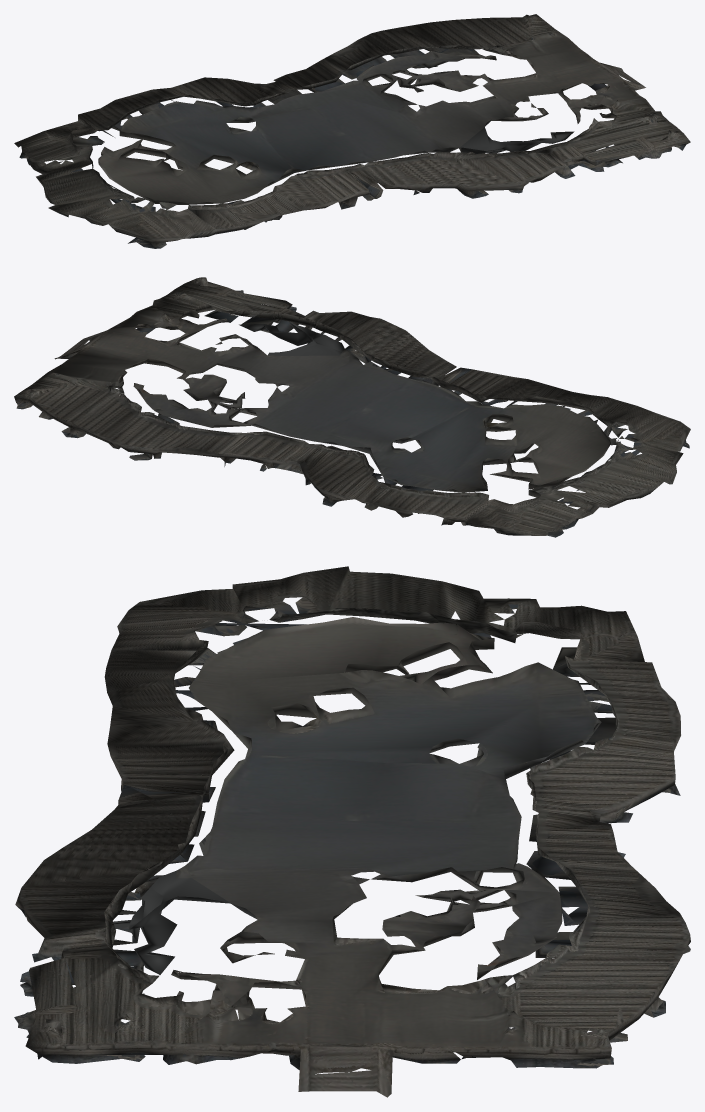
The model's file is horaro_market_deck_lod0.glb.
3 renders of one model, top to bottom at view 1: azimuth 30°, elevation 25°; view 2: azimuth 150°, elevation 25°; view 3: azimuth 270°, elevation 25°, orthographic. The views are drawn at different scales.
Parts seen in each view (by area): view 1: horaro_market_deck_lod0; view 2: horaro_market_deck_lod0; view 3: horaro_market_deck_lod0.
Boxes of the visible parts, x1,y1,x2,y2 form: horaro_market_deck_lod0: [14, 14, 690, 248]; horaro_market_deck_lod0: [14, 277, 690, 537]; horaro_market_deck_lod0: [14, 566, 690, 1097].
Bounding box in the file's own units: 18.07 × 0.6805 × 10.21.
1 material, 1 textured.
